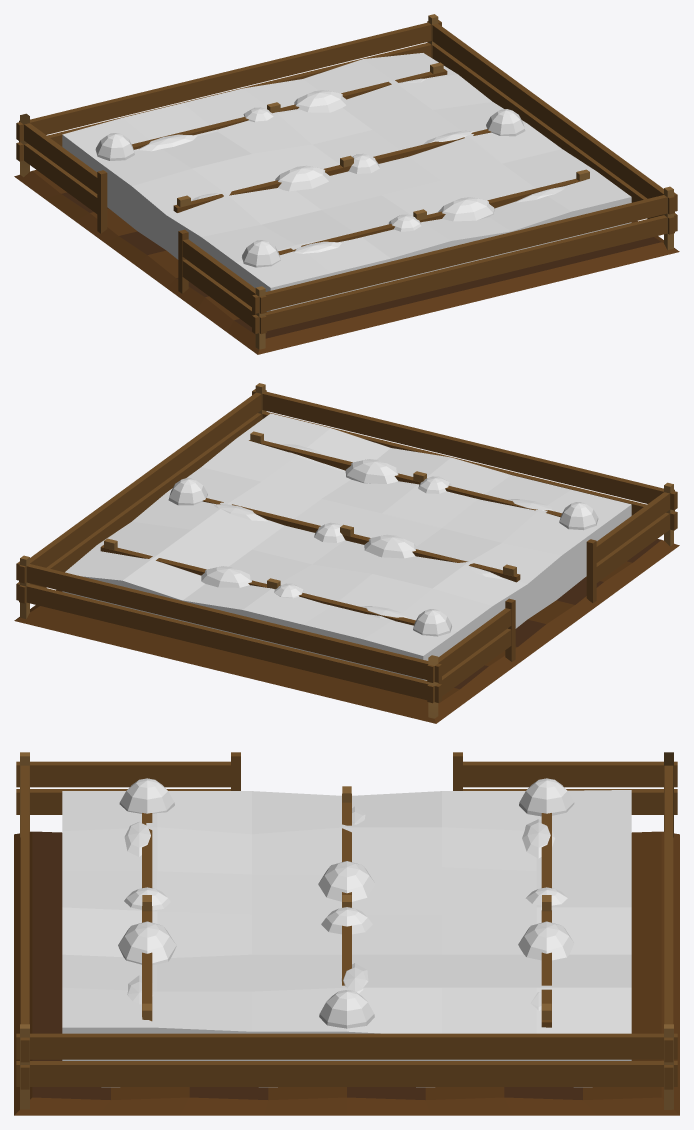
The model's file is CropPlot.fbx.
3 renders of one model, top to bottom at view 1: azimuth 30°, elevation 25°; view 2: azimuth 150°, elevation 25°; view 3: azimuth 270°, elevation 25°, orthographic. The views are drawn at different scales.
Visible parts, largest first — view 1: Wheat, ClopPlot, Grapes; view 2: Wheat, ClopPlot, Grapes; view 3: Wheat, ClopPlot, Grapes.
Part boxes in pixels (x1=…): Wheat: x1=62, y1=53, x2=631, y2=311; ClopPlot: x1=14, y1=14, x2=679, y2=354; Grapes: x1=95, y1=62, x2=589, y2=267; Wheat: x1=62, y1=413, x2=631, y2=680; ClopPlot: x1=14, y1=383, x2=679, y2=723; Grapes: x1=100, y1=431, x2=598, y2=636; Wheat: x1=62, y1=790, x2=631, y2=1087; ClopPlot: x1=14, y1=752, x2=679, y2=1115; Grapes: x1=118, y1=778, x2=574, y2=1028.
Bounding box in the file's own units: 3 × 0.4419 × 3.
3 materials, 1 textured.
